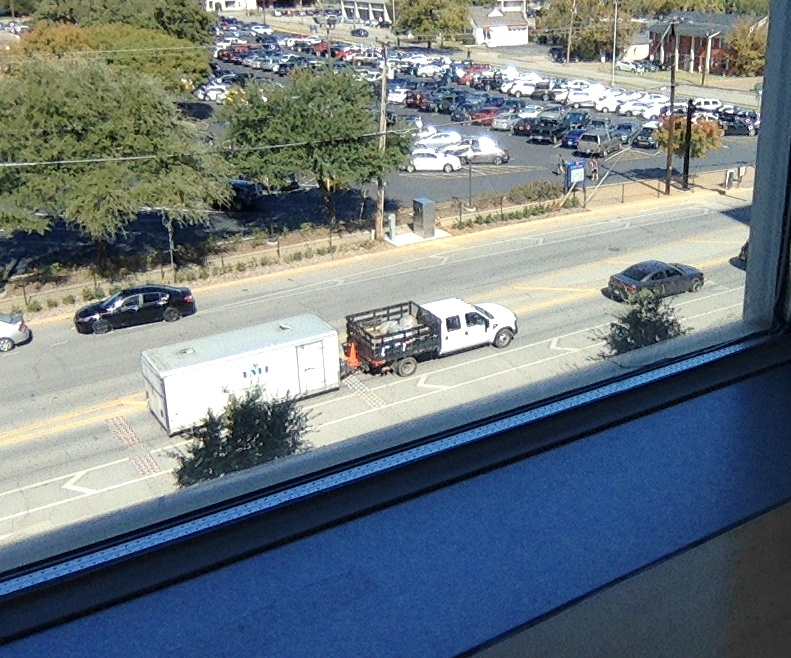car: (300, 300, 491, 393)
